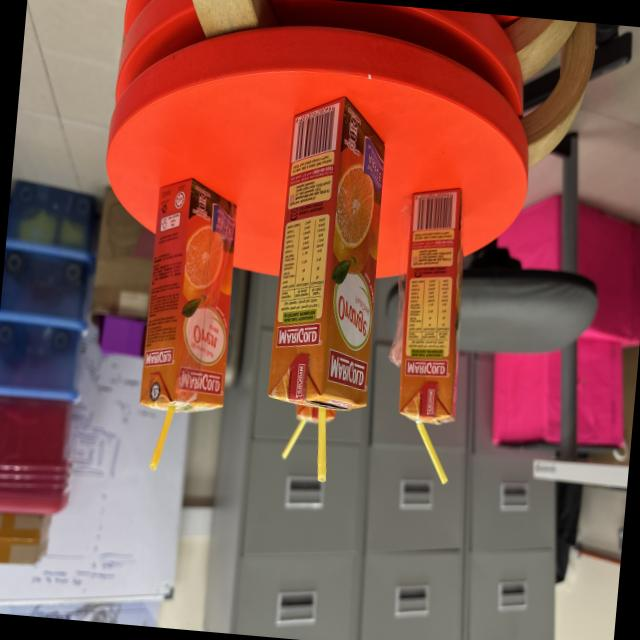drink_carton: (252, 83, 410, 490), (125, 170, 249, 488), (382, 162, 482, 491), (276, 392, 344, 472)
